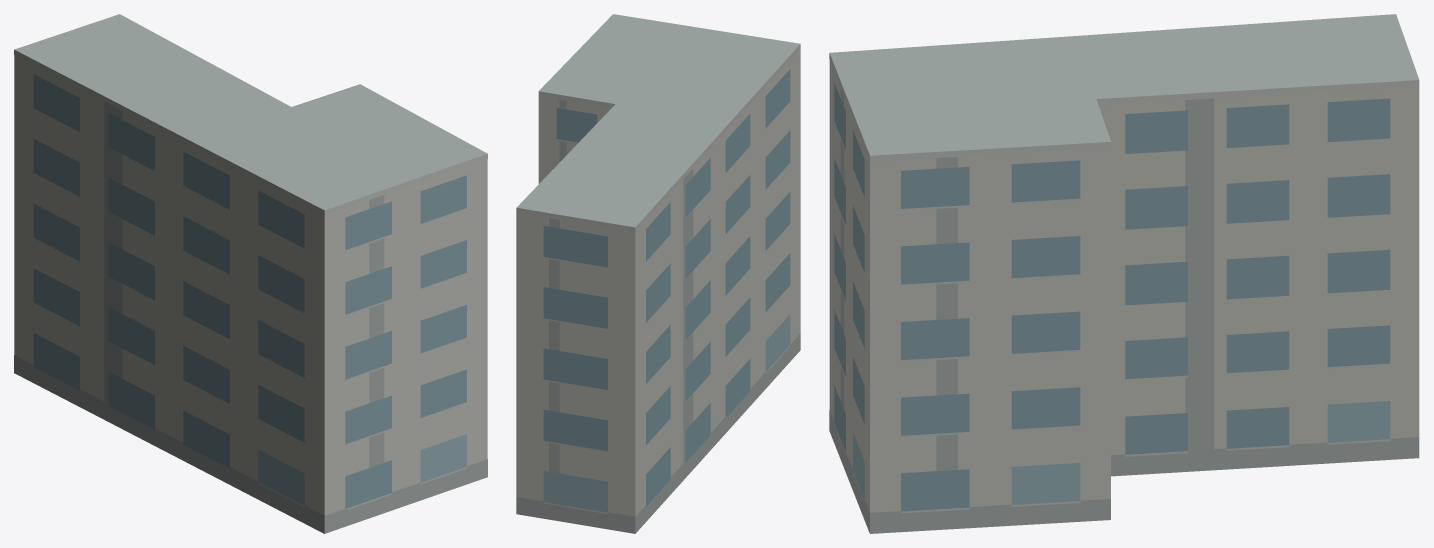
File: survey-upis-32915456.glb
3 renders of one model, left to right at view 1: azimuth 30°, elevation 25°; view 2: azimuth 150°, elevation 25°; view 3: azimuth 270°, elevation 25°, orthographic. The views are drawn at different scales.
Parts seen in each view (by area): view 1: survey-upis-32915456.tmp; view 2: survey-upis-32915456.tmp; view 3: survey-upis-32915456.tmp.
Part boxes in pixels (x1,y1,x2,y2): survey-upis-32915456.tmp: [14, 14, 487, 533]; survey-upis-32915456.tmp: [516, 14, 800, 533]; survey-upis-32915456.tmp: [829, 14, 1419, 533].
Bounding box in the file's own units: 11.87 × 14.75 × 20.87.
